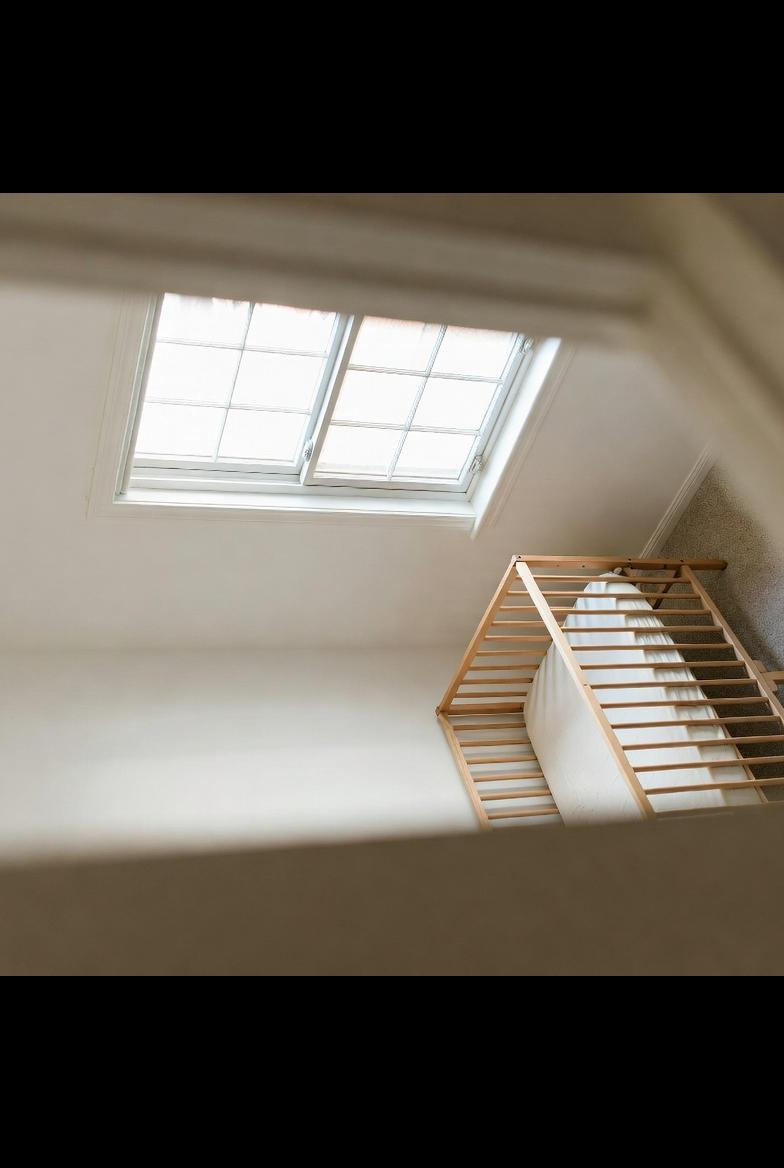crib: (437, 555, 784, 829)
